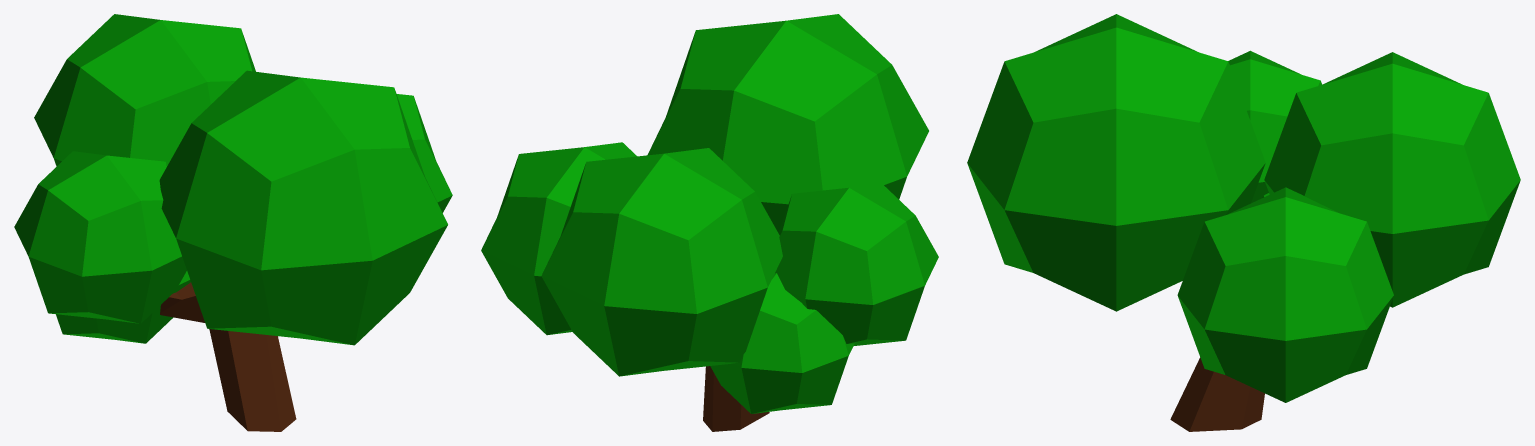
Rendered from Trees04.obj.
3 renders of one model, left to right at view 1: azimuth 30°, elevation 25°; view 2: azimuth 150°, elevation 25°; view 3: azimuth 270°, elevation 25°, orthographic. The views are drawn at different scales.
Parts seen in each view (by area): view 1: Tree01.001_Circle.001; view 2: Tree01.001_Circle.001; view 3: Tree01.001_Circle.001.
Boxes of the visible parts, <box> form: Tree01.001_Circle.001: <box>14,14,452,431</box>; Tree01.001_Circle.001: <box>481,14,938,431</box>; Tree01.001_Circle.001: <box>967,14,1520,431</box>.
Size of the model in its own units: 5.97 by 5.03 by 6.49.
